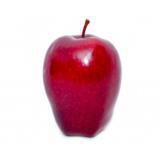apple: (43, 19, 122, 139)
